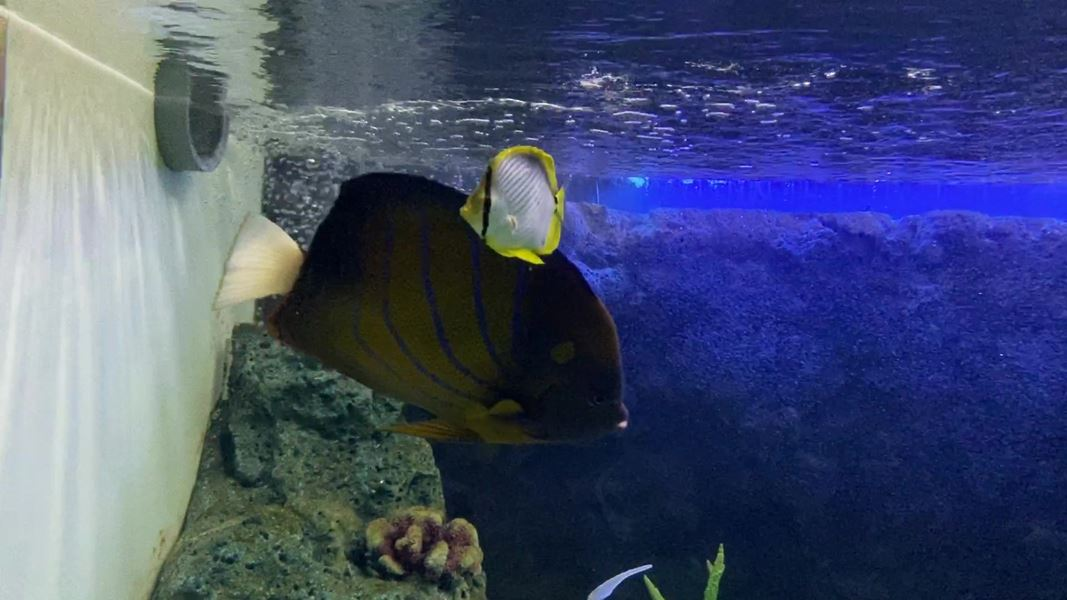Blue ring angelfish: (198, 157, 642, 457)
